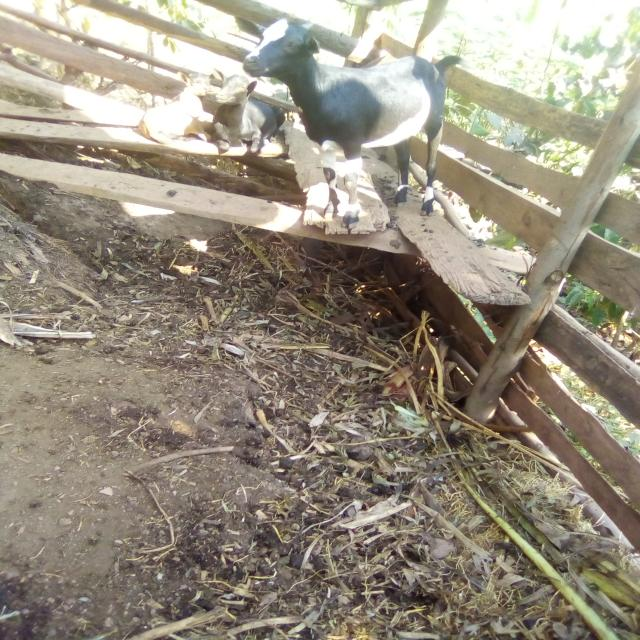goat: (207, 0, 511, 278)
